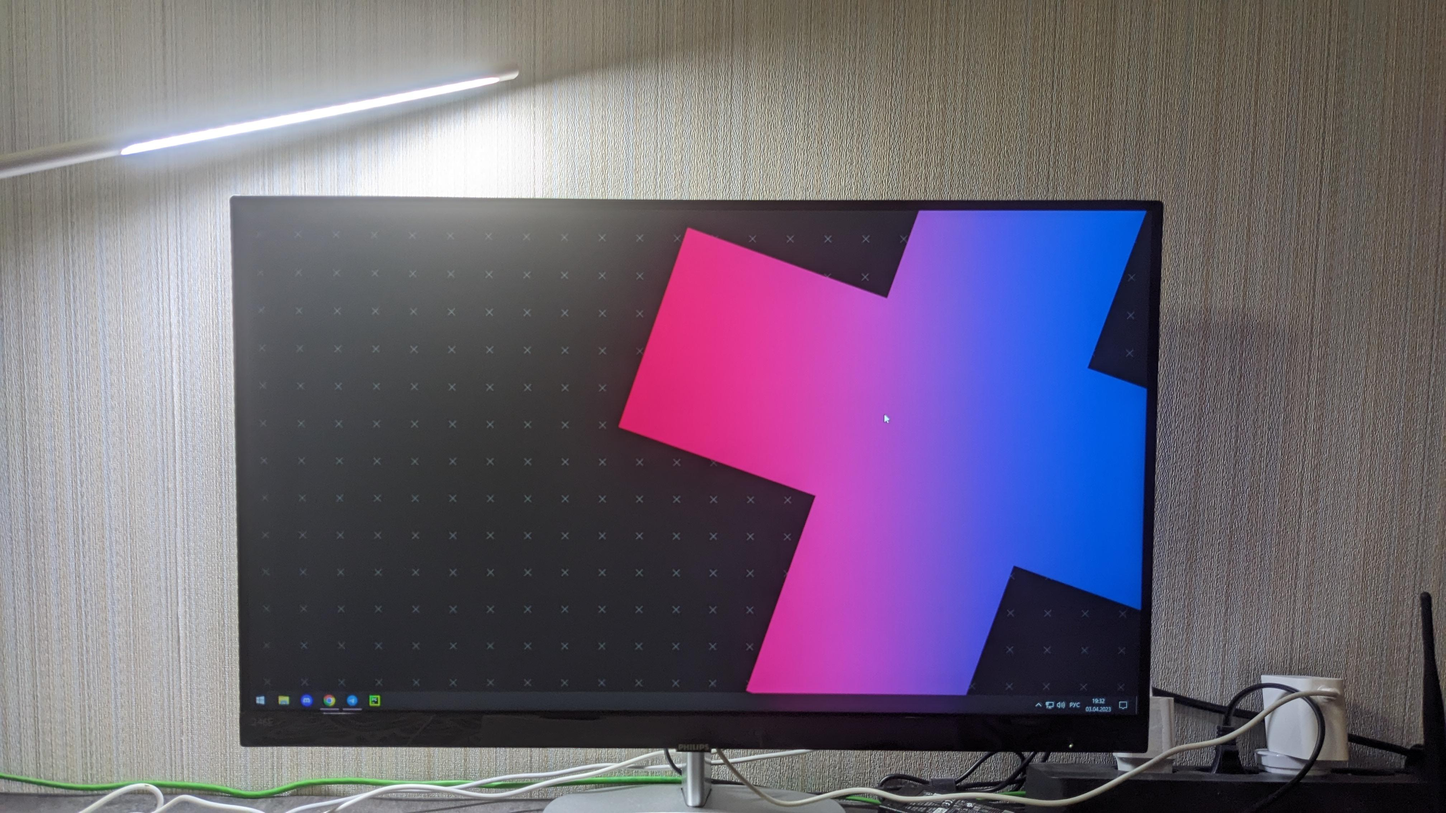monitor: (224, 188, 1166, 758)
